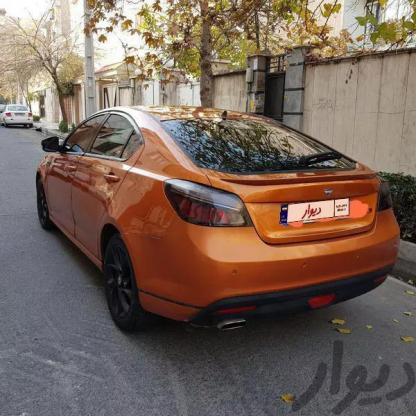Car: (27, 102, 404, 341), (0, 101, 44, 137)
